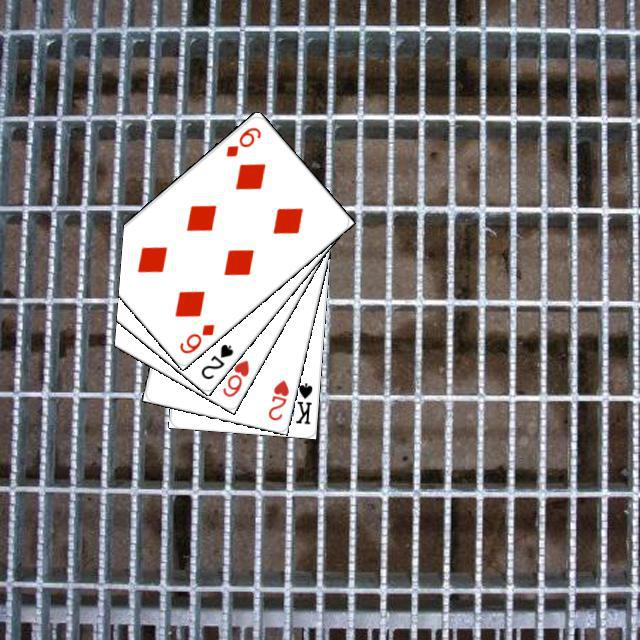2h: (263, 375, 290, 422)
2s: (196, 339, 235, 381)
6d: (174, 319, 216, 356), (221, 122, 263, 159)
6h: (217, 355, 251, 399)
Ks: (291, 378, 314, 426)
